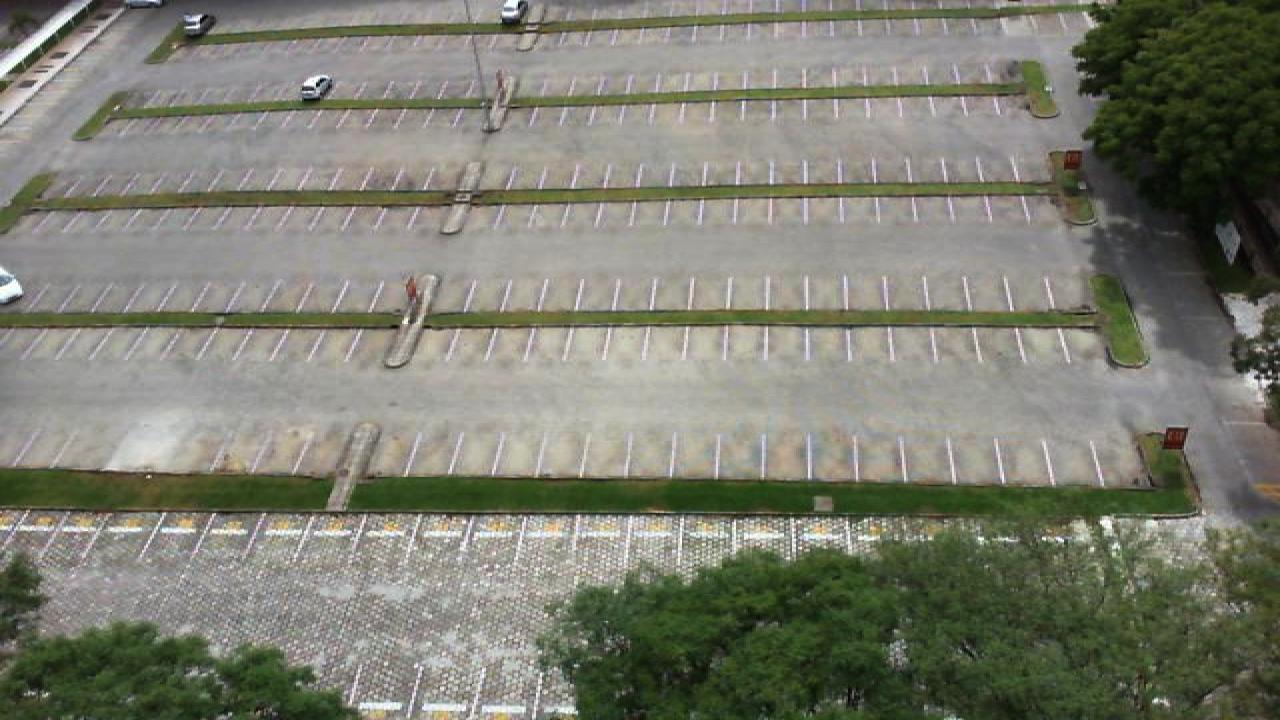Car: (298, 74, 334, 102), (0, 264, 24, 305), (178, 12, 212, 38), (500, 0, 528, 26), (122, 0, 164, 9)
